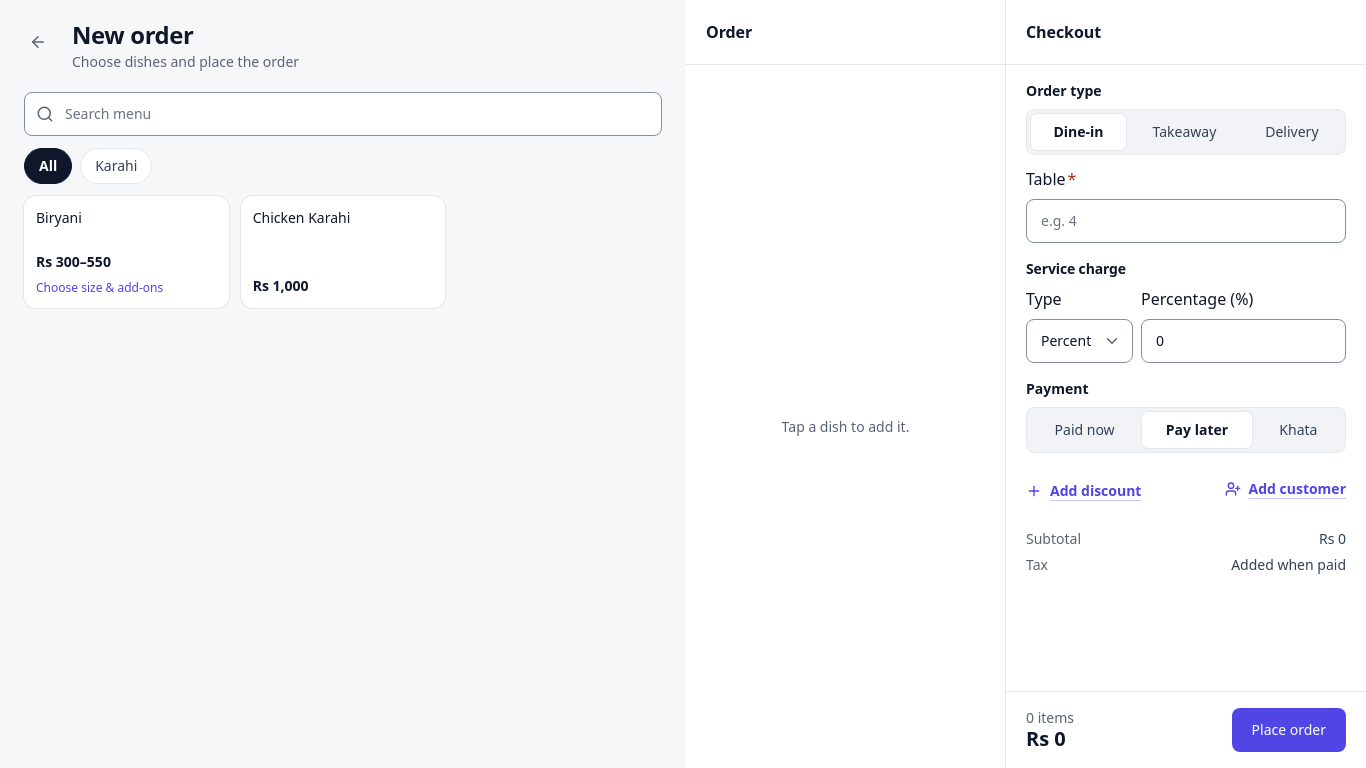
it: New order (desktop) › a number nobody has opens the new customer form with it filled in
Expected: the text "Chicken Karahi" is shown, top-left (253, 208), bottom-right (350, 228)
Click the button "Add customer".
click(1285, 489)  # box top-left (1224, 479), bottom-right (1346, 499)
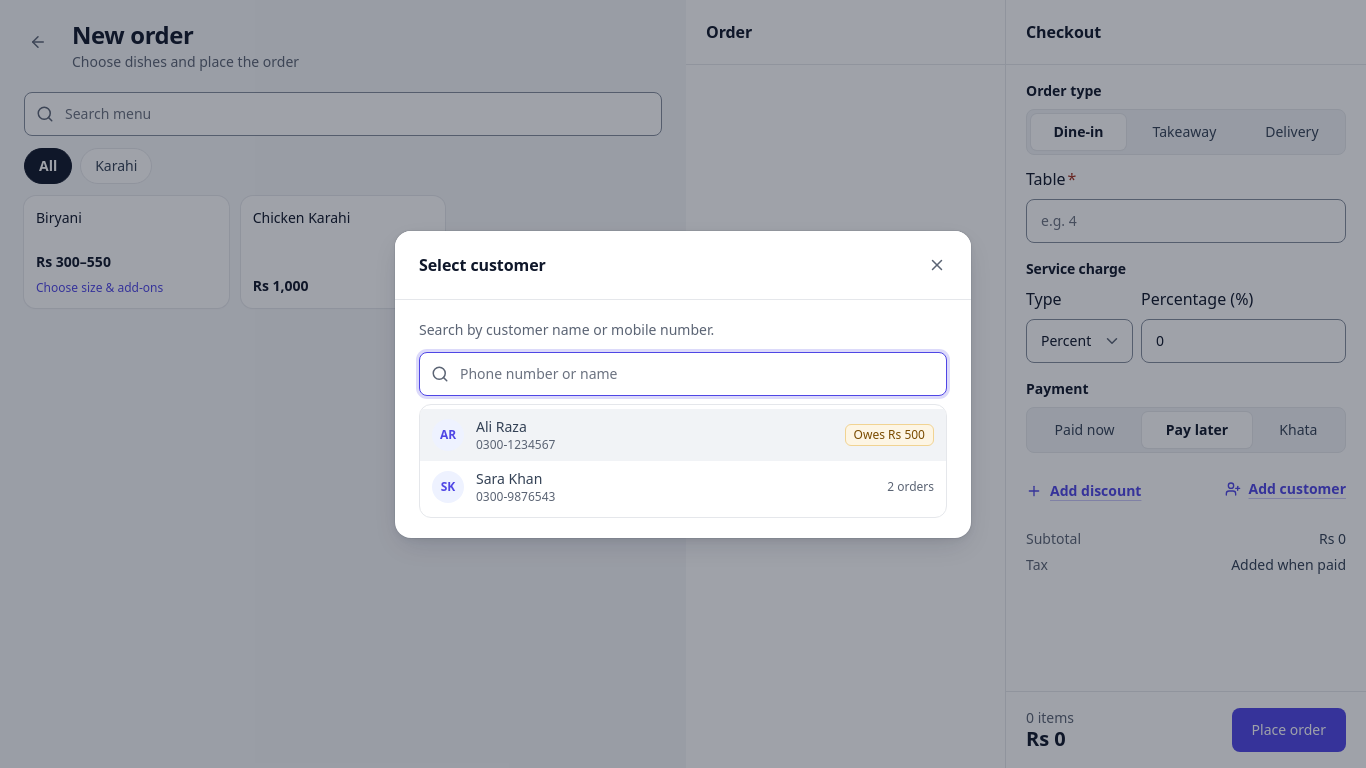
Type "0321 7654321" into the dropdown named "find customer".
click(683, 374); type("0321 7654321")  # box top-left (419, 352), bottom-right (947, 396)
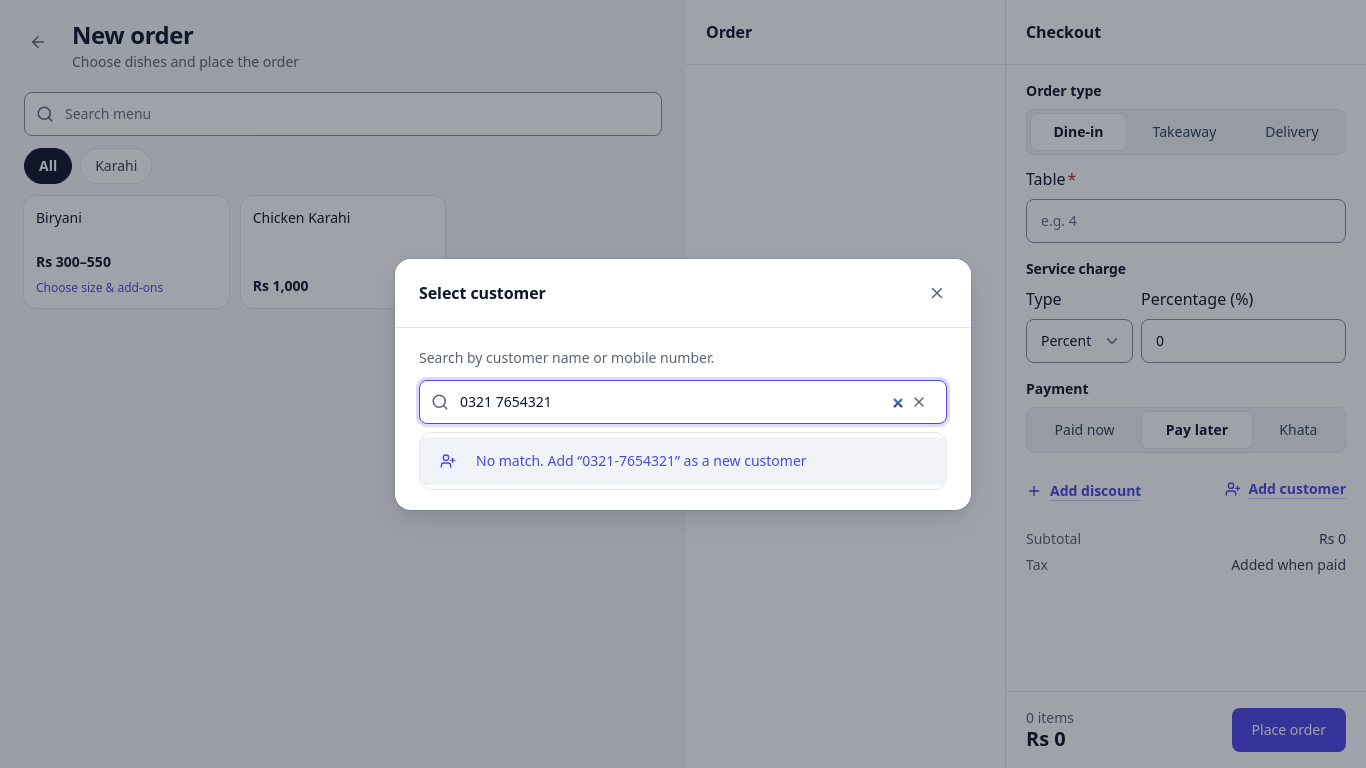
Click the option "No match. Add “0321-7654321” as a new customer".
click(683, 460)  # box top-left (420, 436), bottom-right (946, 484)
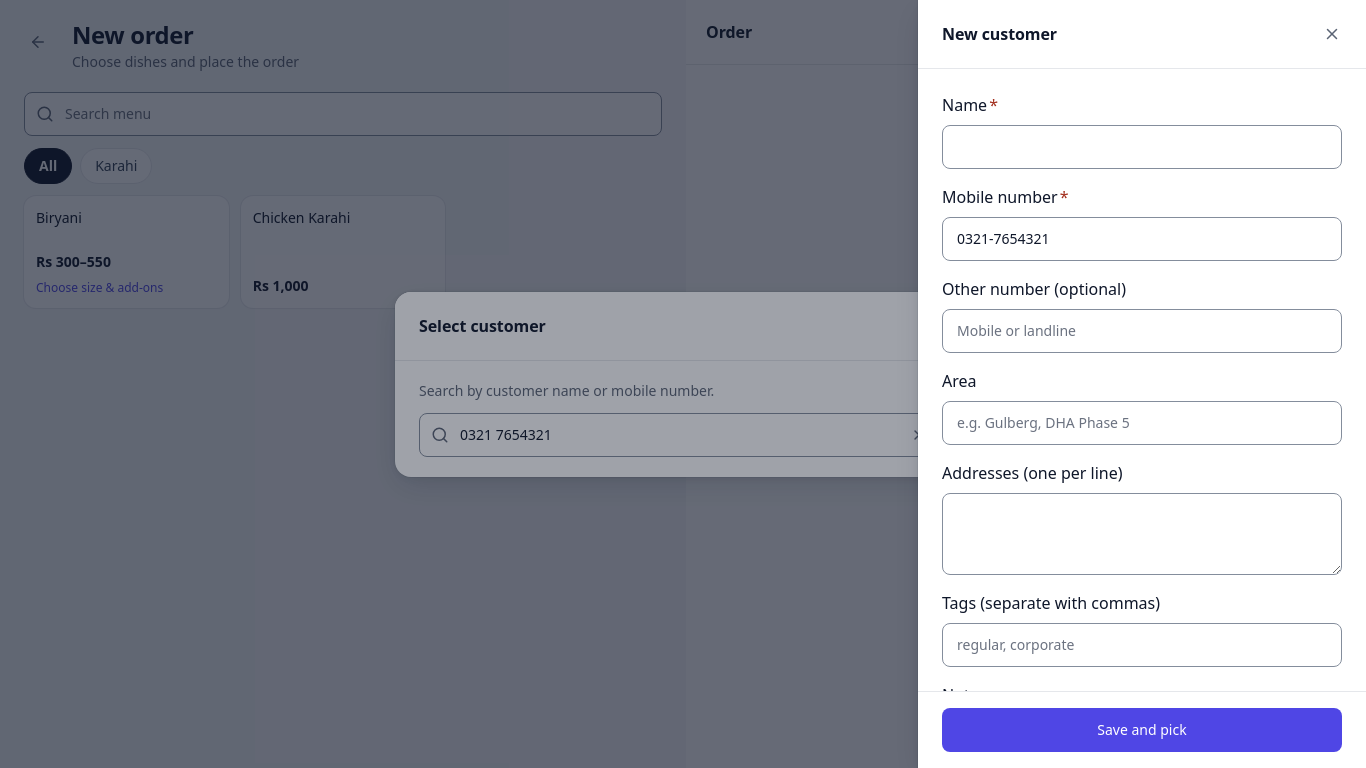
Expected: the field labelled "Mobile number*" holds "0321-7654321", top-left (942, 217), bottom-right (1342, 261)
